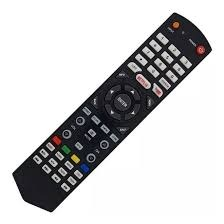remote control: (1, 6, 214, 212)
